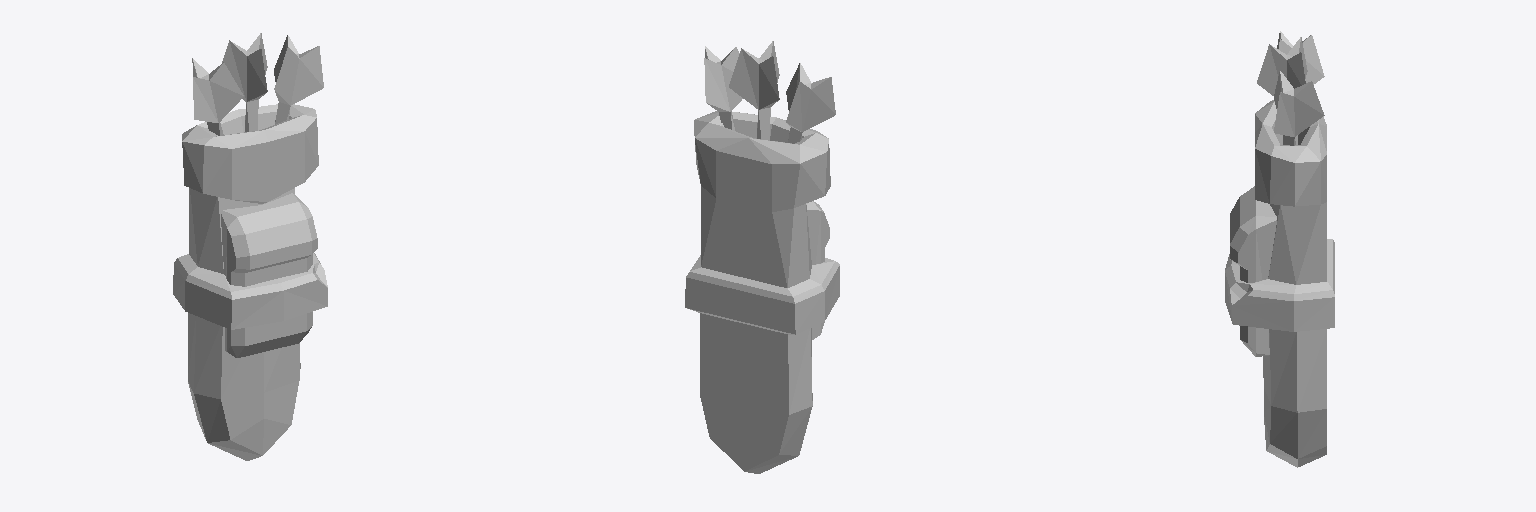
File: Skeleton_Quiver.obj
3 views of the same model, side by side, from view 1: azimuth 30°, elevation 25°; view 2: azimuth 150°, elevation 25°; view 3: azimuth 270°, elevation 25° (orthographic).
Parts seen in each view (by area): view 1: Skeleton_Quiver_Cube.009; view 2: Skeleton_Quiver_Cube.009; view 3: Skeleton_Quiver_Cube.009.
Boxes of the visible parts, box(x1,y1,x2,y2) form: Skeleton_Quiver_Cube.009: box(173, 33, 327, 460); Skeleton_Quiver_Cube.009: box(685, 41, 839, 473); Skeleton_Quiver_Cube.009: box(1225, 31, 1334, 467).
Bounding box in the file's own units: 0.3054 × 0.9294 × 0.2196.